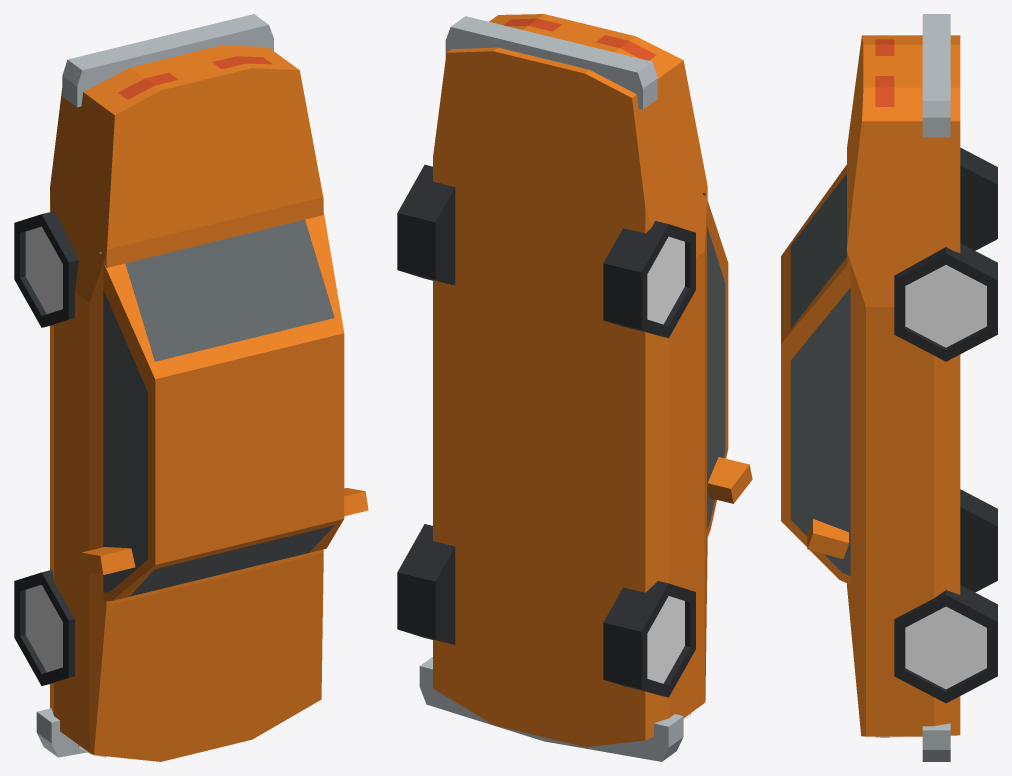
Rendered from tinker.obj.
3 renders of one model, left to right at view 1: azimuth 30°, elevation 25°; view 2: azimuth 150°, elevation 25°; view 3: azimuth 270°, elevation 25°, orthographic. The views are drawn at different scales.
Parts seen in each view (by area): view 1: group_0_16089887, group_0_6383466, group_0_12568524, group_0_2829873, group_0_16448250, group_0_14897954; view 2: group_0_16089887, group_0_2829873, group_0_12568524, group_0_16448250, group_0_6383466, group_0_14897954; view 3: group_0_16089887, group_0_6383466, group_0_2829873, group_0_16448250, group_0_12568524, group_0_14897954.
Part boxes in pixels (box(x1,y1,x2,y2)): group_0_16089887: box(50, 45, 368, 761); group_0_6383466: box(99, 219, 334, 596); group_0_12568524: box(36, 14, 273, 757); group_0_2829873: box(14, 211, 78, 685); group_0_16448250: box(25, 226, 106, 757); group_0_14897954: box(118, 56, 272, 99); group_0_16089887: box(433, 14, 752, 747); group_0_2829873: box(397, 164, 695, 697); group_0_12568524: box(419, 16, 683, 761); group_0_16448250: box(647, 236, 691, 719); group_0_6383466: box(703, 193, 725, 529); group_0_14897954: box(503, 18, 656, 60); group_0_16089887: box(781, 35, 960, 736); group_0_6383466: box(790, 173, 850, 576); group_0_2829873: box(894, 147, 997, 703); group_0_16448250: box(875, 265, 986, 737); group_0_12568524: box(922, 14, 950, 761); group_0_14897954: box(875, 39, 894, 106).
Bounding box in the file's own units: 31 × 77 × 23.
